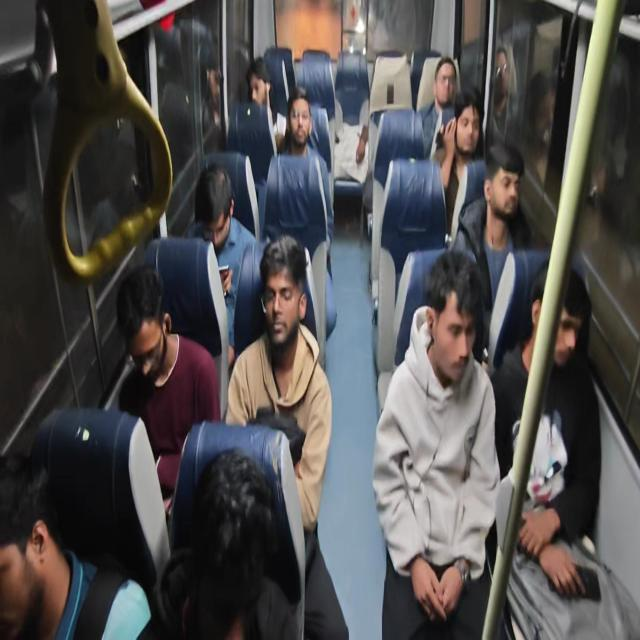person: (171, 440, 285, 640), (1, 446, 55, 640), (421, 245, 480, 402), (523, 258, 594, 387), (114, 267, 174, 393), (256, 233, 310, 360), (182, 162, 237, 252), (482, 129, 524, 231), (453, 86, 492, 152), (242, 45, 272, 116), (286, 83, 316, 154), (431, 51, 461, 112)
